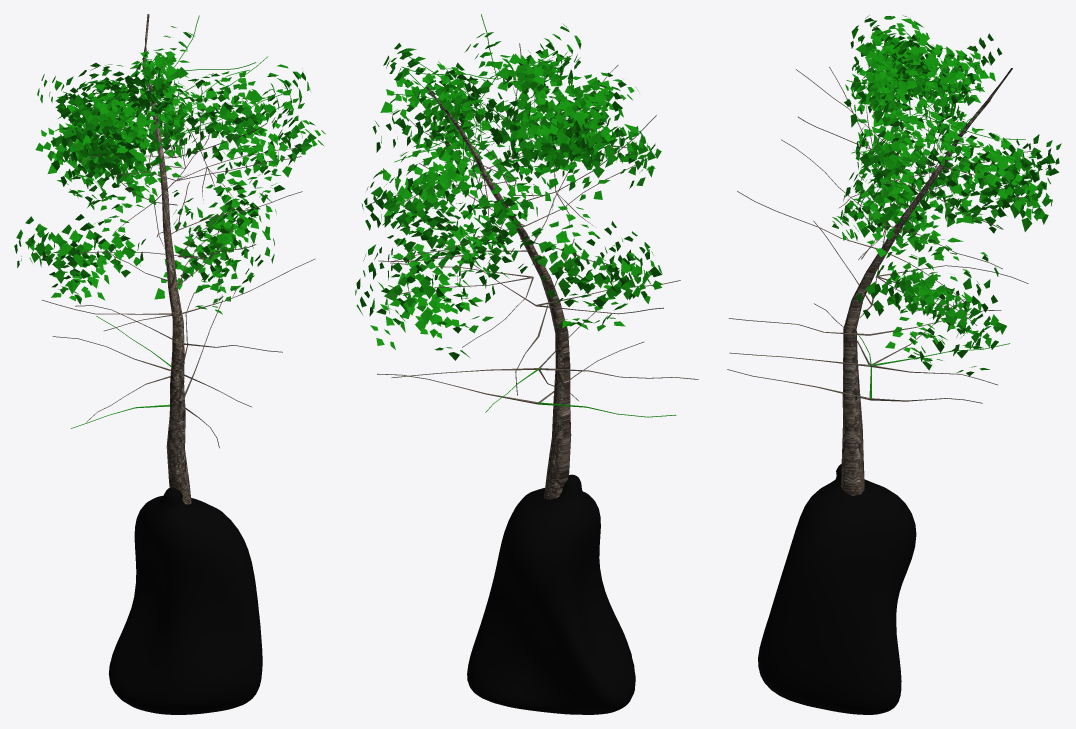
The model's file is sadzonka2.FBX.
3 renders of one model, left to right at view 1: azimuth 30°, elevation 25°; view 2: azimuth 150°, elevation 25°; view 3: azimuth 270°, elevation 25°, orthographic. The views are drawn at different scales.
Visible parts, largest first — view 1: Sphere001, QAP0001B, QAP0028F, QAP0013F, QAP0012F, QAP0019F, QAP0029F, QAP0006F, QAP0015F, QAP0030F, QAP0014F, QAP0018F (+2 smaller); view 2: Sphere001, QAP0014F, QAP0028F, QAP0001B, QAP0013F, QAP0018F, QAP0030F, QAP0007F, QAP0012F, QAP0006F, QAP0029F, QAP0015F (+2 smaller); view 3: Sphere001, QAP0014F, QAP0001B, QAP0029F, QAP0013F, QAP0019F, QAP0012F, QAP0007F, QAP0018F, QAP0028F, QAP0002F, QAP0030F (+3 smaller).
Part boxes in pixels (x1,y1,x2,y2): Sphere001: (109, 487, 262, 714); QAP0001B: (142, 14, 191, 504); QAP0028F: (14, 194, 145, 304); QAP0013F: (182, 64, 310, 146); QAP0012F: (65, 77, 192, 178); QAP0019F: (211, 113, 325, 227); QAP0029F: (173, 180, 276, 314); QAP0006F: (50, 59, 165, 170); QAP0015F: (51, 111, 168, 209); QAP0030F: (154, 190, 263, 303); QAP0014F: (129, 83, 218, 204); QAP0018F: (35, 105, 172, 209); Sphere001: (467, 474, 635, 714); QAP0014F: (361, 126, 508, 252); QAP0028F: (532, 206, 662, 331); QAP0001B: (426, 87, 571, 499); QAP0013F: (380, 43, 502, 146); QAP0018F: (449, 133, 556, 279); QAP0030F: (355, 221, 495, 360); QAP0007F: (493, 70, 588, 189); QAP0012F: (484, 61, 638, 167); QAP0006F: (492, 58, 652, 180); QAP0029F: (363, 208, 493, 333); QAP0015F: (512, 98, 661, 200); Sphere001: (758, 464, 916, 714); QAP0014F: (934, 123, 1052, 233); QAP0001B: (841, 68, 1012, 496); QAP0029F: (856, 237, 997, 352); QAP0013F: (855, 106, 952, 201); QAP0019F: (832, 153, 927, 257); QAP0012F: (844, 15, 953, 136); QAP0007F: (910, 33, 1002, 150); QAP0018F: (922, 114, 1061, 220); QAP0028F: (847, 139, 970, 266); QAP0002F: (851, 15, 934, 96); QAP0030F: (890, 252, 1006, 376).
Bounding box in the file's own units: 683 × 1487 × 670.
3 materials, 1 textured.
